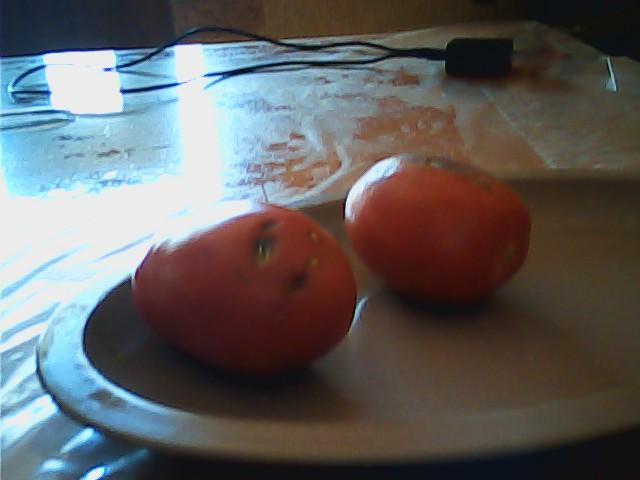defectuoso: (133, 202, 350, 379), (346, 143, 538, 302)
